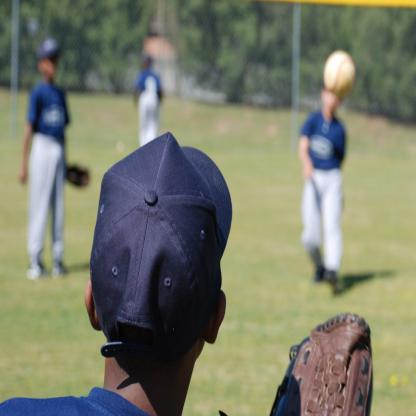Ball: (325, 51, 355, 97)
